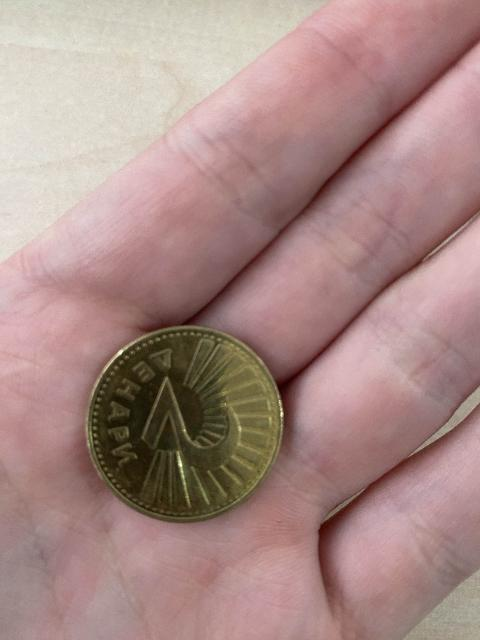coin: (87, 326, 282, 521)
